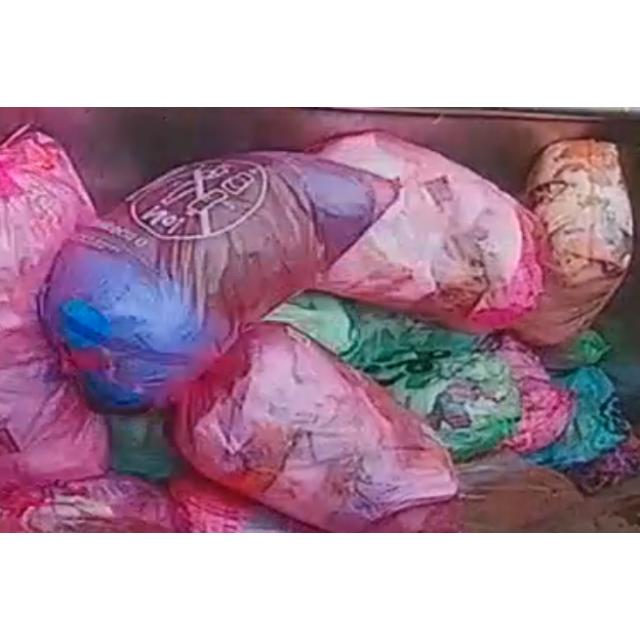general_trashbag: (354, 326, 521, 461)
other_trashbag: (41, 152, 399, 411), (175, 324, 458, 531), (316, 132, 542, 333), (0, 124, 108, 484), (511, 142, 631, 346)
